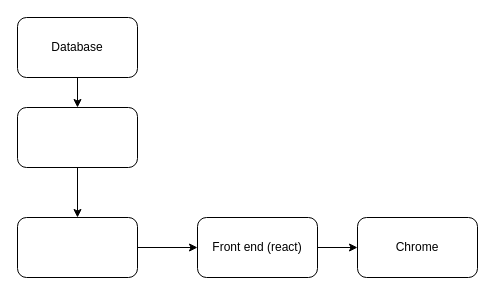
The diagram is 495 pixels wide and 295 high, and some of its shapes have lost their labels. The shapes that lost their labels are listed below. From the top down, each one's centre as x and y in pixels, then its label:
At (77,137): "C# program".
At (77,247): "Rest api".
